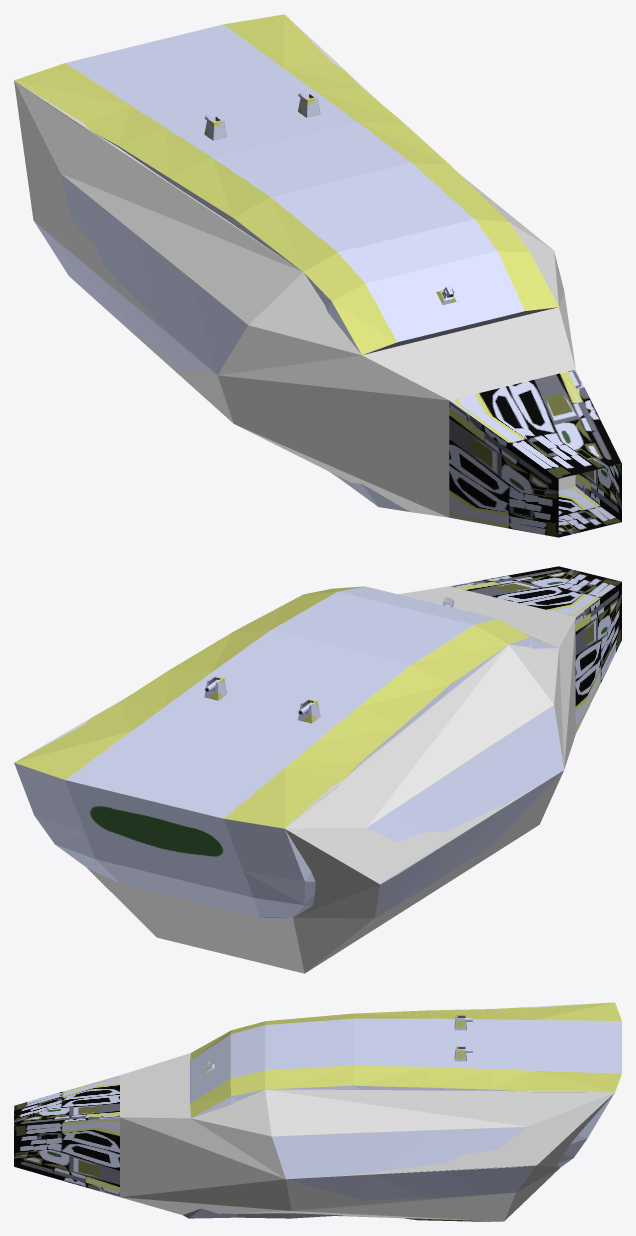
3 views of the same model, one above another, from view 1: azimuth 30°, elevation 25°; view 2: azimuth 150°, elevation 25°; view 3: azimuth 270°, elevation 25° (orthographic). The views are drawn at different scales.
Visible parts, largest first — view 1: Fuselage Extents, Fuselage, Exhaust, Debris Mesh.001, Debris Mesh.004, Debris Mesh.002, Debris Mesh.003; view 2: Fuselage, Fuselage Extents, Debris Mesh.004, Debris Mesh.002, Debris Mesh.003, Exhaust, Debris Mesh.000, Debris Mesh.001; view 3: Fuselage Extents, Fuselage, Debris Mesh.001, Exhaust, Debris Mesh.000, Debris Mesh.004, Debris Mesh.003.
Part boxes in pixels (box(x1,y1,x2,y2)): Fuselage Extents: box(14, 18, 575, 517); Fuselage: box(14, 14, 434, 511); Exhaust: box(449, 369, 621, 537); Debris Mesh.001: box(303, 203, 558, 511); Debris Mesh.004: box(82, 126, 493, 271); Debris Mesh.002: box(38, 174, 247, 373); Debris Mesh.003: box(17, 14, 332, 125); Fuselage: box(14, 593, 558, 915); Fuselage Extents: box(19, 586, 575, 973); Debris Mesh.004: box(220, 591, 508, 786); Debris Mesh.002: box(367, 705, 564, 917); Debris Mesh.003: box(16, 729, 336, 904); Exhaust: box(449, 566, 621, 733); Debris Mesh.000: box(55, 844, 314, 917); Debris Mesh.001: box(286, 586, 557, 648); Fuselage Extents: box(120, 1002, 614, 1221); Fuselage: box(231, 1002, 621, 1221); Debris Mesh.001: box(183, 1021, 371, 1218); Exhaust: box(14, 1075, 119, 1196); Debris Mesh.000: box(352, 1126, 573, 1200); Debris Mesh.004: box(265, 1012, 515, 1091); Debris Mesh.003: box(534, 1059, 614, 1157).
Size of what is drawn, in the model's own units: 19.94 by 44.42 by 13.79.
4 materials, 4 textured.
